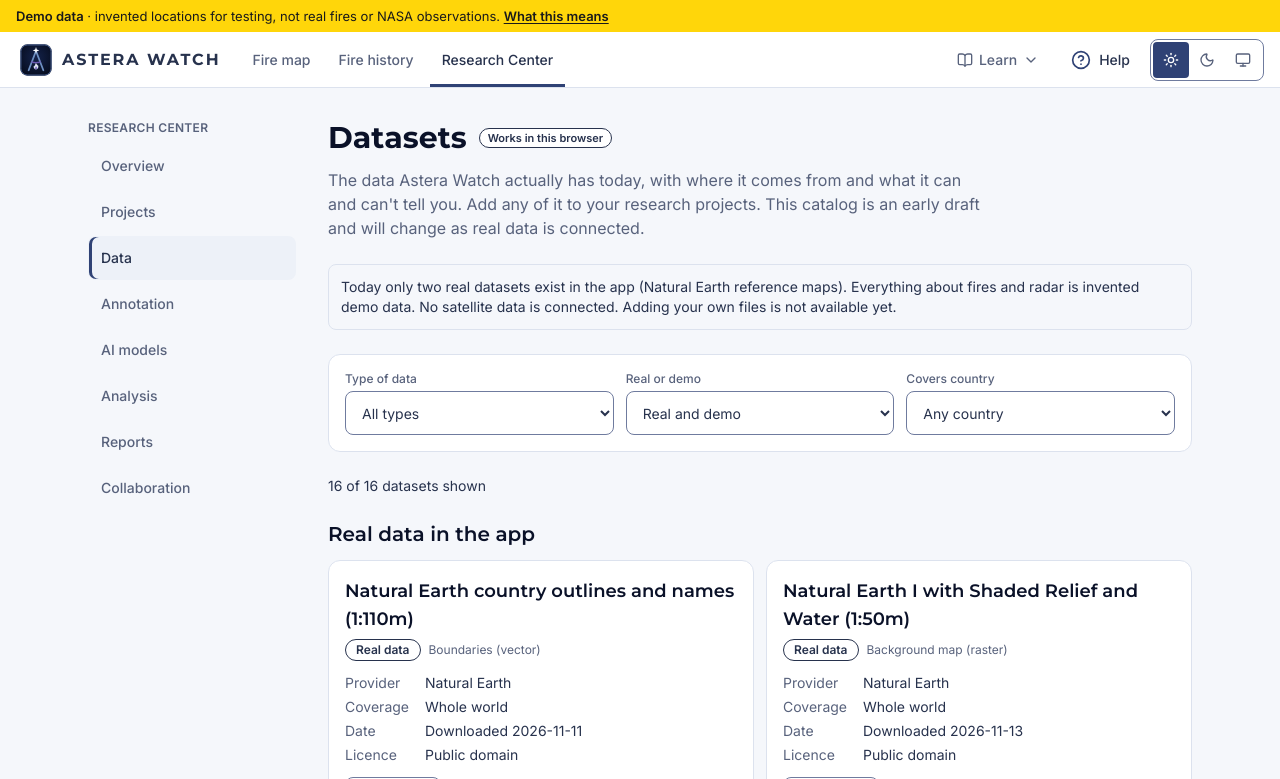
dataset catalog page › filters by type, real/demo and country (global reference maps cover every country); empty state and clear
Later steps or results of the test are not shown.
Expected: the dropdown labelled "Type of data" is shown, [345, 391, 614, 435]
Select "Real data" in the dropdown labelled "Real or demo" at (760, 413), box [626, 391, 894, 435]
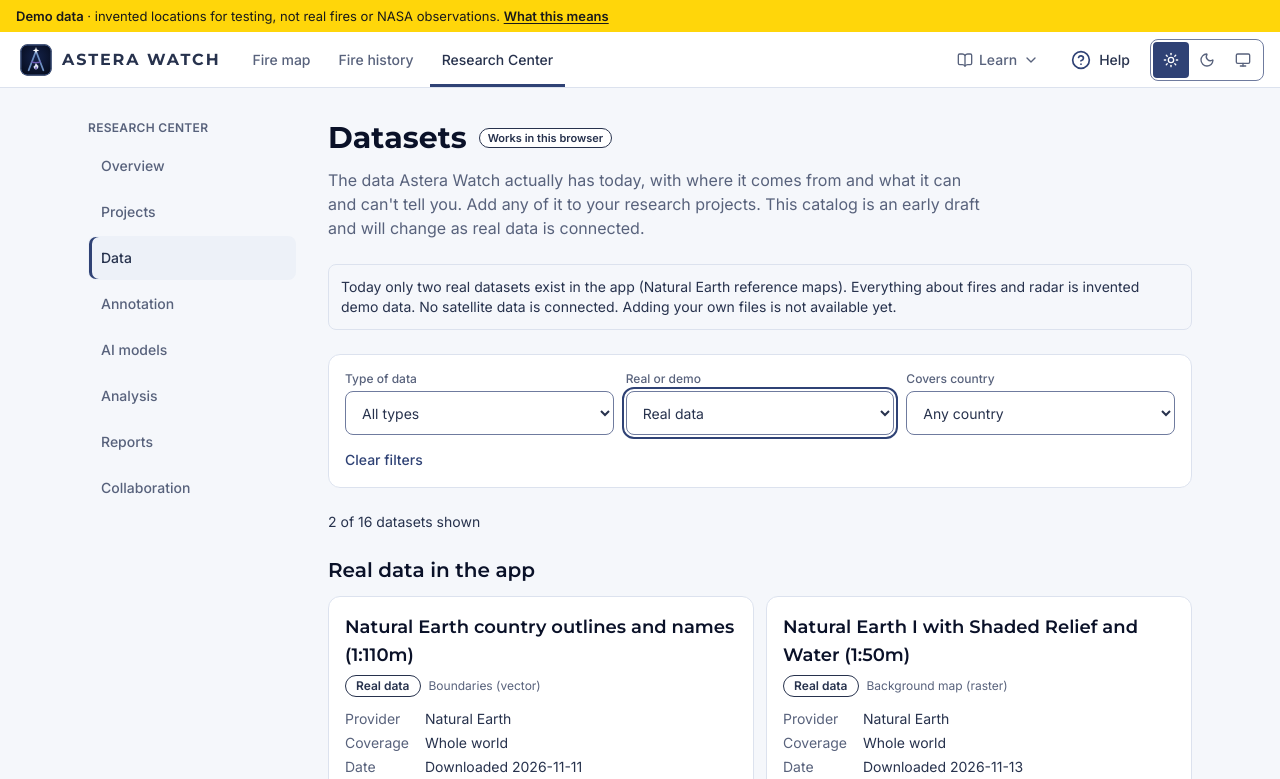
Select "Real and demo" in the dropdown labelled "Real or demo" at (760, 413), box [626, 391, 894, 435]
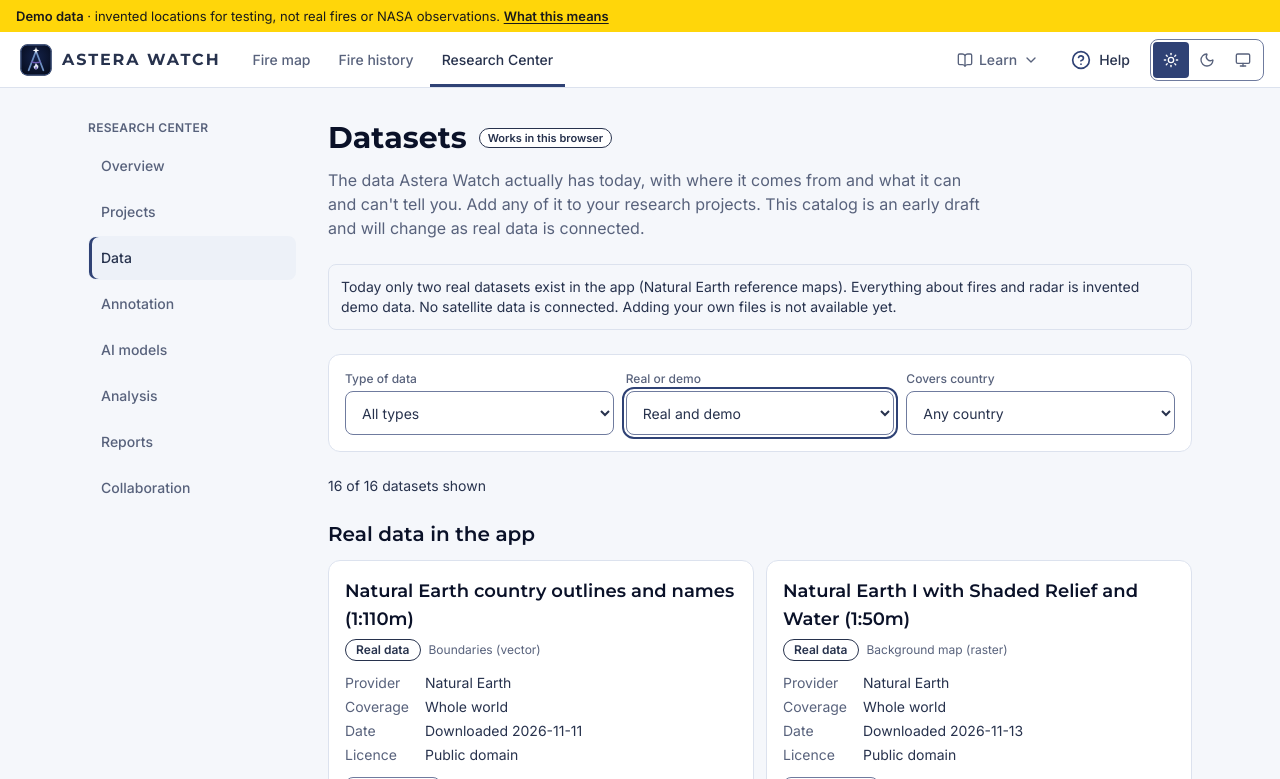
Select "Portugal" in the dropdown labelled "Covers country" at (1041, 413), box [906, 391, 1175, 435]
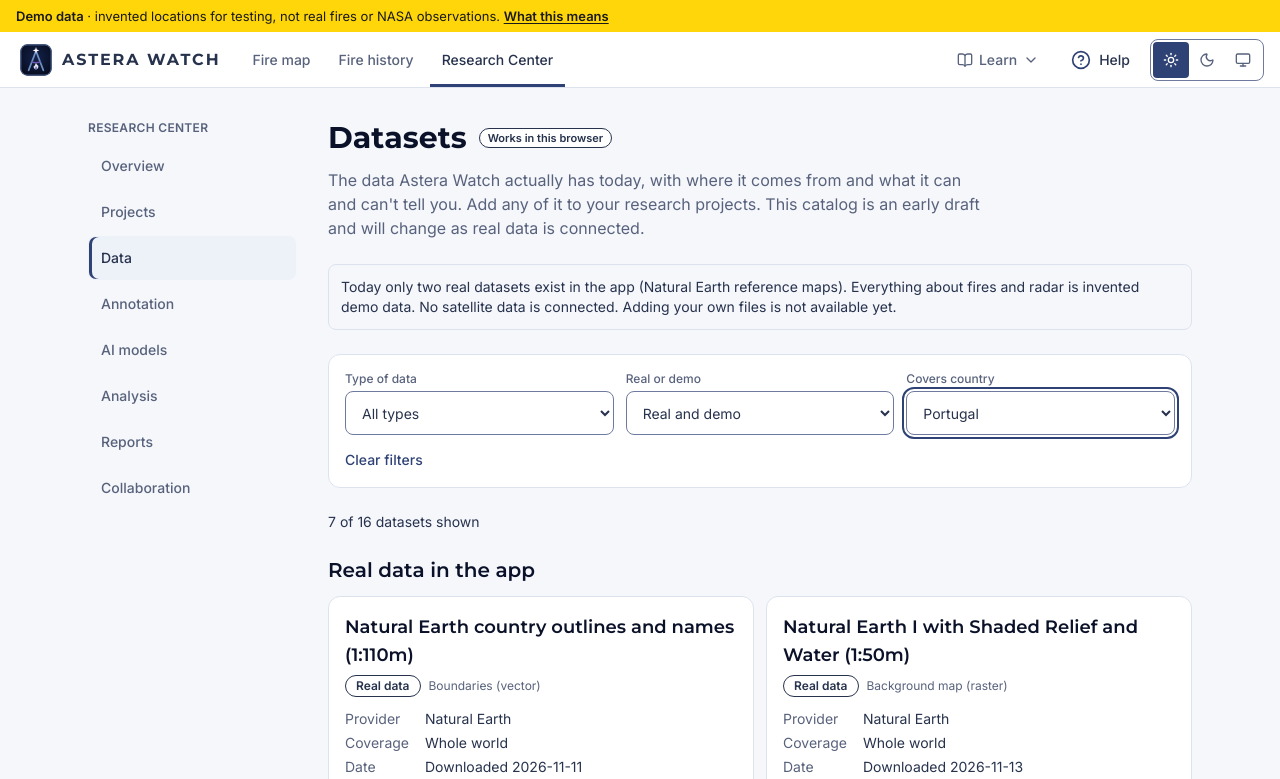
Select "Boundaries (vector)" in the dropdown labelled "Type of data" at (479, 413), box [345, 391, 614, 435]
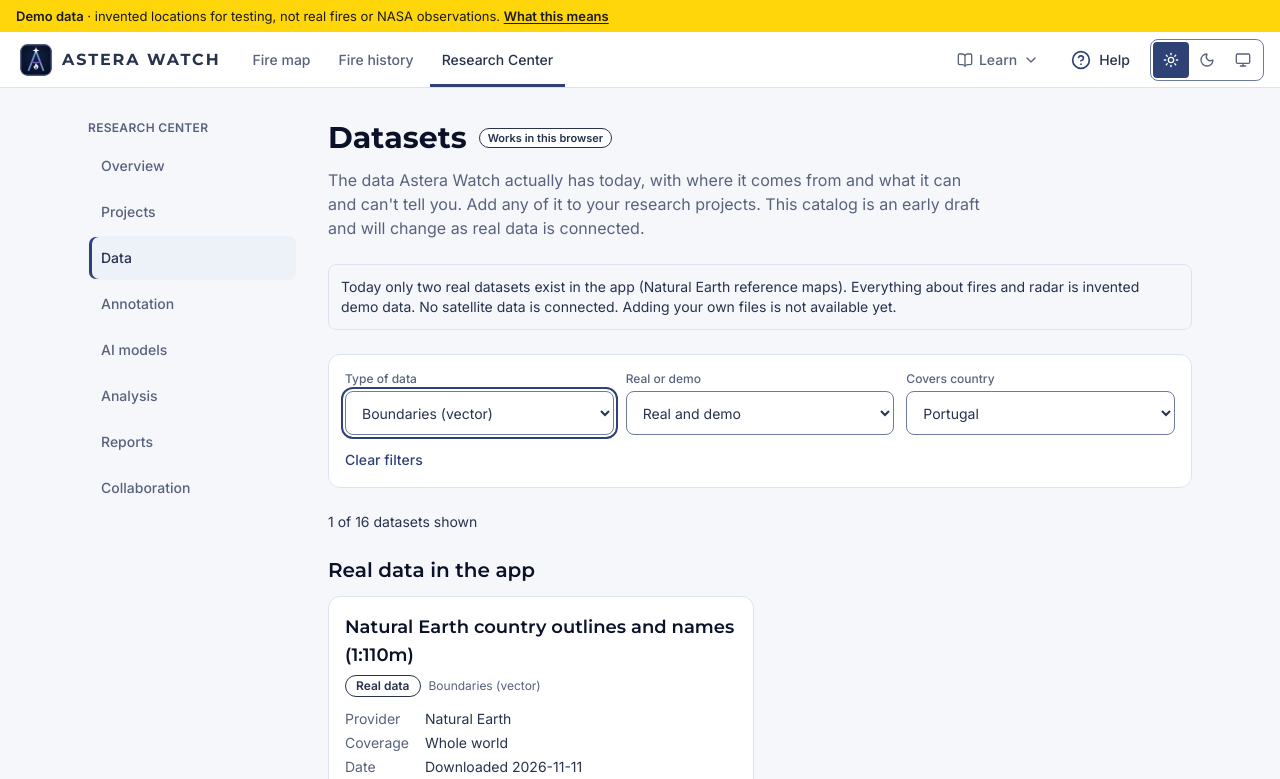
Select "Demo data (invented)" in the dropdown labelled "Real or demo" at (760, 413), box [626, 391, 894, 435]
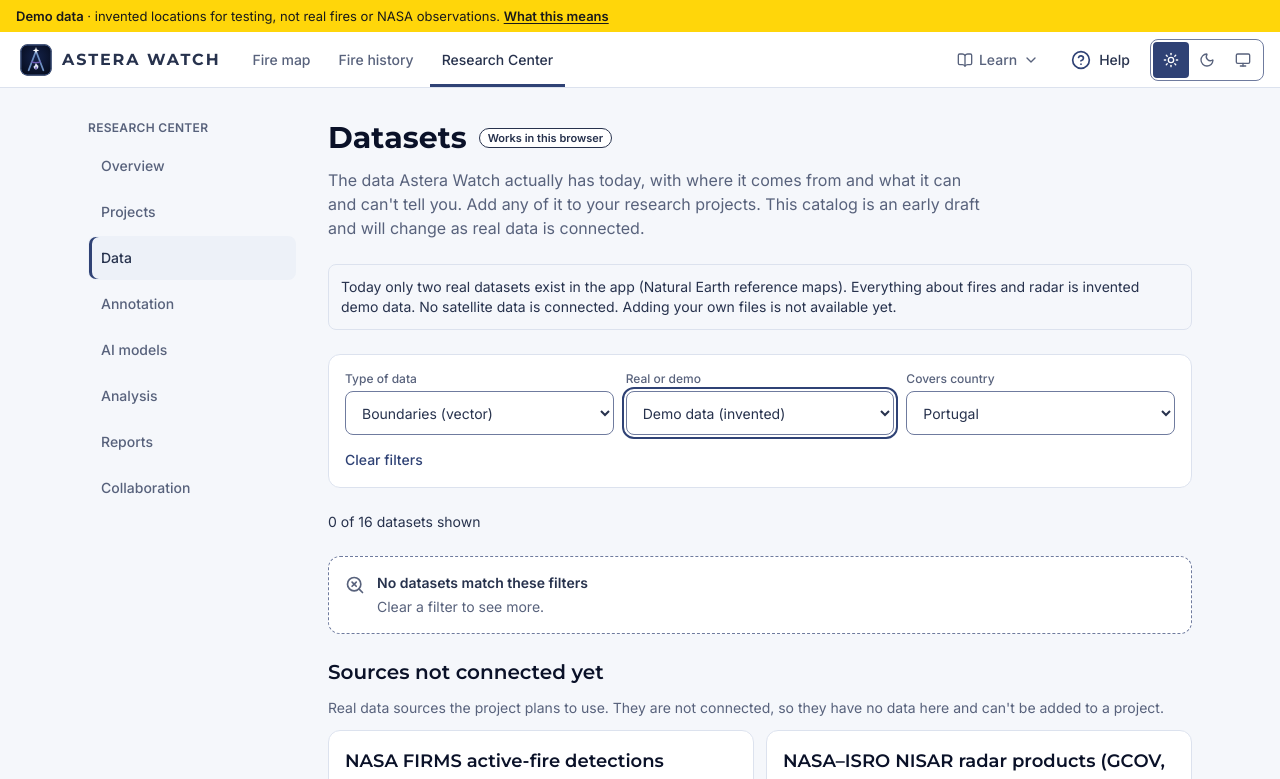
Result: the text "No datasets match these filters" is shown at [377, 573, 588, 593]
